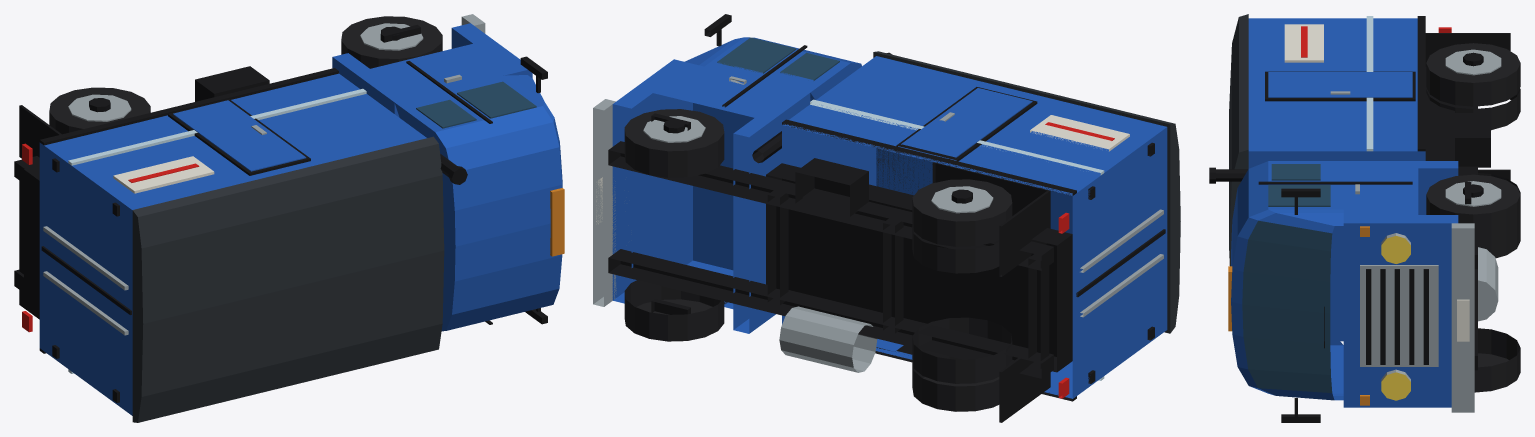
The picture shows the model from 3 angles, left to right: view 1: azimuth 30°, elevation 25°; view 2: azimuth 150°, elevation 25°; view 3: azimuth 270°, elevation 25°; orthographic projection. The views are drawn at different scales.
Visible parts, largest first — view 1: default_roof, default_body, default_cab_upper, default_side1_-1.55_1.95_cc1, default_cab_arch, default_front1, default_rear_out1, default_subframe, default_side1_-3.60_1.75_black, default_cab_back, default_side1_-3.30_3.30_plaster_white, default_side_window1 (+10 smaller); view 2: default_body, default_subframe, default_cab_arch, default_chassis-1, default_cab_front, default_cab_back, default_chassis1, default_front1, default_rear_out1, default_roof, default_fuel_tank, default_front-1 (+22 smaller); view 3: default_cab_upper, default_body, default_cab_front, default_grille, default_rear_out1, default_front1, default_bumper, default_side1_-1.55_1.95_cc1, default_cab_arch, default_roof, default_front-1, default_battery_box (+26 smaller).
Part boxes in pixels (x1,y1,x2,y2): default_roof: (132, 136, 444, 422); default_body: (39, 73, 426, 415); default_cab_upper: (394, 75, 562, 331); default_side1_-1.55_1.95_cc1: (173, 100, 306, 171); default_cab_arch: (370, 44, 513, 98); default_front1: (341, 16, 442, 68); default_rear_out1: (49, 87, 150, 134); default_subframe: (24, 165, 39, 309); default_side1_-3.60_1.75_black: (39, 68, 338, 145); default_cab_back: (332, 53, 409, 117); default_side1_-3.30_3.30_plaster_white: (113, 156, 214, 193); default_side_window1: (457, 81, 536, 118); default_body: (782, 56, 1167, 398); default_subframe: (766, 163, 1072, 372); default_cab_arch: (653, 64, 794, 308); default_chassis-1: (608, 249, 1053, 378); default_cab_front: (612, 59, 692, 303); default_cab_back: (733, 89, 810, 333); default_chassis1: (608, 141, 1053, 270); default_front1: (624, 109, 724, 177); default_rear_out1: (912, 179, 1012, 246); default_roof: (873, 51, 1180, 333); default_fuel_tank: (779, 306, 877, 372); default_front-1: (624, 280, 724, 341); default_cab_upper: (1231, 161, 1343, 400); default_body: (1248, 18, 1425, 341); default_cab_front: (1343, 215, 1458, 407); default_grille: (1360, 265, 1438, 366); default_rear_out1: (1426, 43, 1520, 106); default_front1: (1426, 174, 1520, 239); default_bumper: (1451, 223, 1474, 412); default_side1_-1.55_1.95_cc1: (1268, 72, 1412, 97); default_cab_arch: (1343, 168, 1418, 214); default_roof: (1229, 14, 1248, 266); default_front-1: (1474, 328, 1520, 392); default_battery_box: (1455, 113, 1490, 167).
Size of the model in its own units: 7.56 by 3.9 by 4.75.
